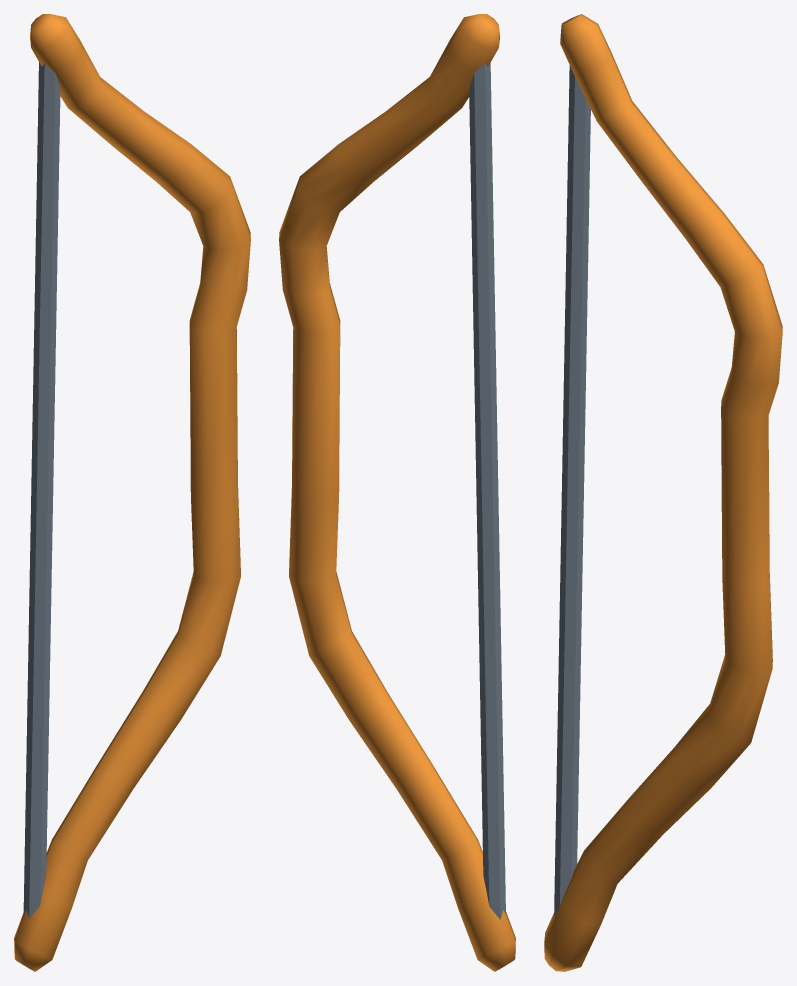
File: Bow.fbx
The picture shows the model from 3 angles, left to right: view 1: azimuth 30°, elevation 25°; view 2: azimuth 150°, elevation 25°; view 3: azimuth 330°, elevation 25°; orthographic projection.
Visible parts, largest first — view 1: Axe; view 2: Axe; view 3: Axe.
Part boxes in pixels (bbox=[...]): Axe: bbox=[14, 14, 250, 971]; Axe: bbox=[279, 14, 515, 971]; Axe: bbox=[544, 14, 782, 971].
Bounding box in the file's own units: 57.02 × 220 × 9.07.
